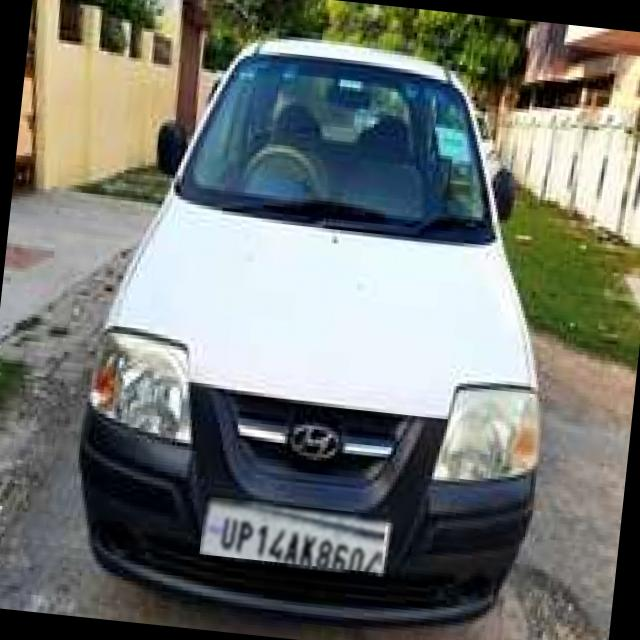Plate: (200, 497, 387, 574)
